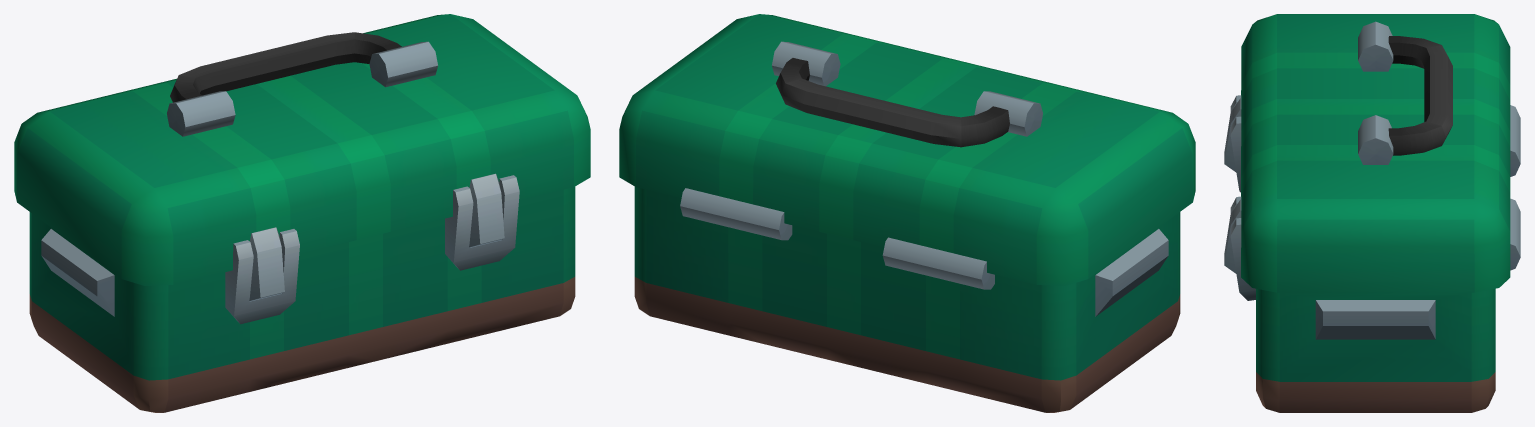
File: fishing_tacklebox_empty.gltf
3 renders of one model, left to right at view 1: azimuth 30°, elevation 25°; view 2: azimuth 150°, elevation 25°; view 3: azimuth 270°, elevation 25°, orthographic. The views are drawn at different scales.
Visible parts, largest first — view 1: fishing_tacklebox_empty_lid, fishing_tacklebox_empty; view 2: fishing_tacklebox_empty_lid, fishing_tacklebox_empty; view 3: fishing_tacklebox_empty_lid, fishing_tacklebox_empty.
Boxes of the visible parts, left/top/right/bottom form: fishing_tacklebox_empty_lid: left=14, top=14, right=590, bottom=300; fishing_tacklebox_empty: left=29, top=175, right=575, bottom=412; fishing_tacklebox_empty_lid: left=619, top=14, right=1195, bottom=289; fishing_tacklebox_empty: left=634, top=187, right=1180, bottom=412; fishing_tacklebox_empty_lid: left=1224, top=14, right=1520, bottom=292; fishing_tacklebox_empty: left=1230, top=95, right=1495, bottom=412.
Bounding box in the file's own units: 0.9595 × 0.5012 × 0.5585.
1 material, 1 textured.
